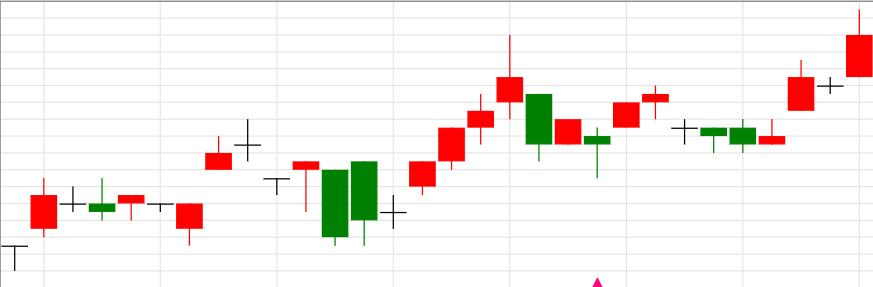shooting_star_fall: (320, 34, 524, 246)
